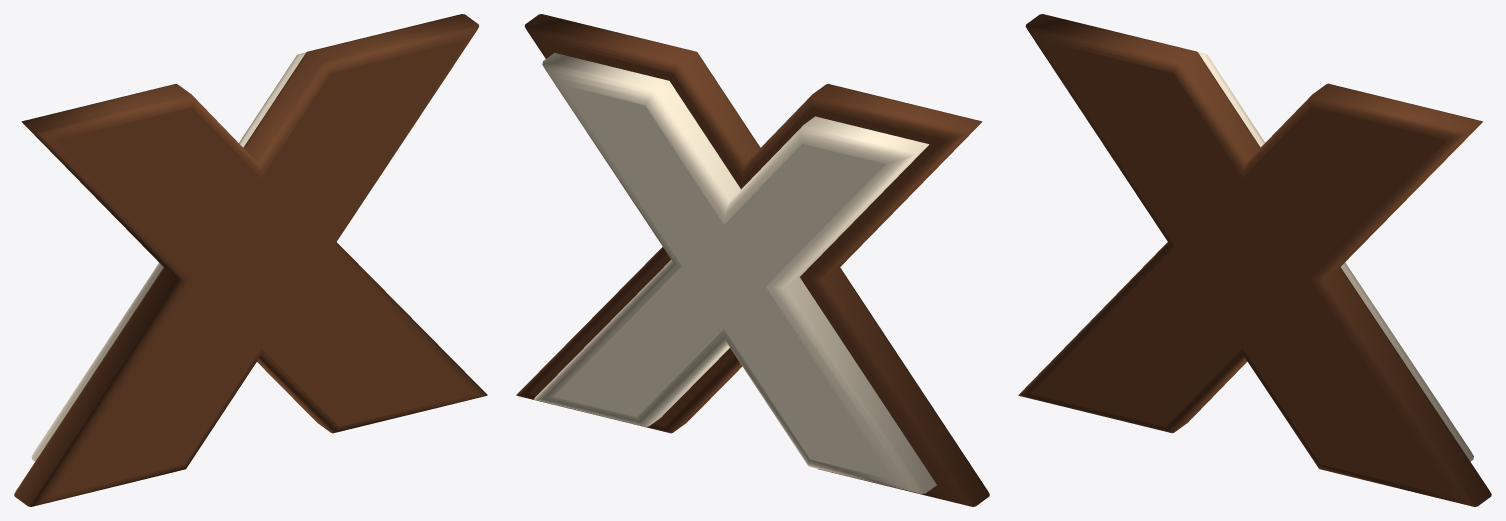
The model's file is Letter_X.fbx.
3 renders of one model, left to right at view 1: azimuth 30°, elevation 25°; view 2: azimuth 150°, elevation 25°; view 3: azimuth 330°, elevation 25°, orthographic.
Visible parts, largest first — view 1: Letter_X; view 2: Letter_X; view 3: Letter_X.
Boxes of the visible parts, <box> form: Letter_X: <box>14,14,487,506</box>; Letter_X: <box>516,14,989,506</box>; Letter_X: <box>1018,14,1491,506</box>.
Size of the model in its own units: 1.15 by 0.892 by 0.18.
Materials: 1 (1 with a texture image).
